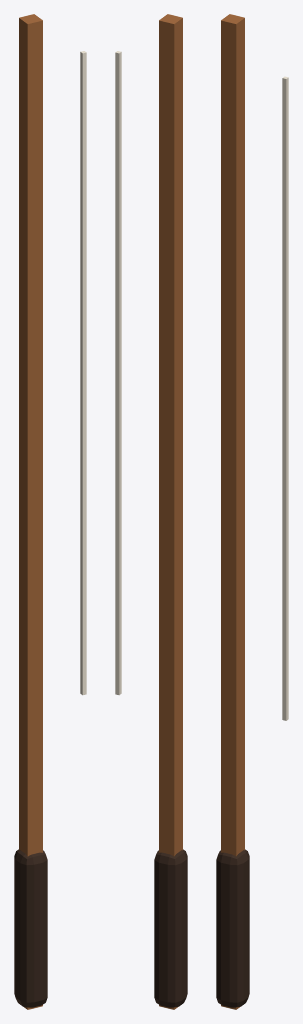
File: prop_pancingan.fbx
3 views of the same model, side by side, from view 1: azimuth 30°, elevation 25°; view 2: azimuth 150°, elevation 25°; view 3: azimuth 330°, elevation 25° (orthographic).
Visible parts, largest first — view 1: prop_pancingan; view 2: prop_pancingan; view 3: prop_pancingan.
Part boxes in pixels (x1,y1,x2,y2): prop_pancingan: (14, 14, 86, 1009); prop_pancingan: (115, 14, 187, 1009); prop_pancingan: (216, 14, 288, 1009).
Bounding box in the file's own units: 15.45 × 215 × 6.
1 material, 1 textured.
